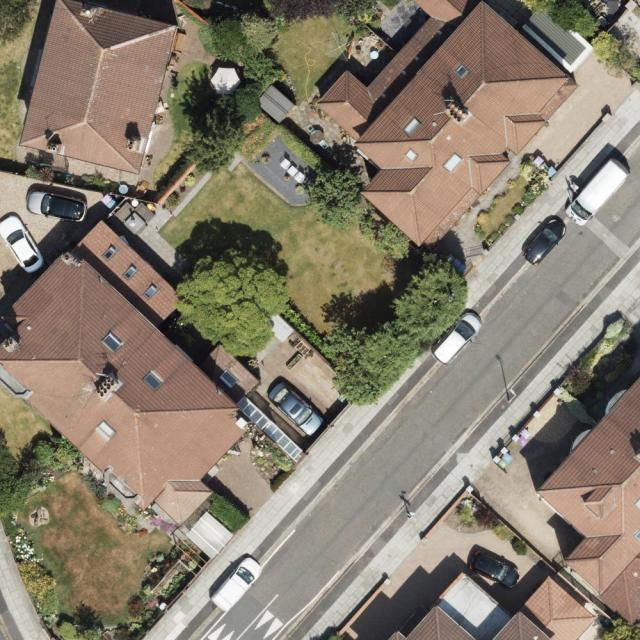roof: (0, 220, 261, 527), (312, 0, 594, 257), (20, 1, 178, 175), (536, 374, 640, 633), (385, 573, 596, 640)
skylight: (139, 369, 167, 395), (93, 417, 119, 443), (100, 330, 126, 355), (404, 115, 424, 136), (444, 151, 464, 172), (123, 261, 141, 282), (221, 369, 240, 388), (142, 280, 160, 300), (453, 60, 470, 79), (99, 245, 117, 262), (403, 146, 420, 163)
